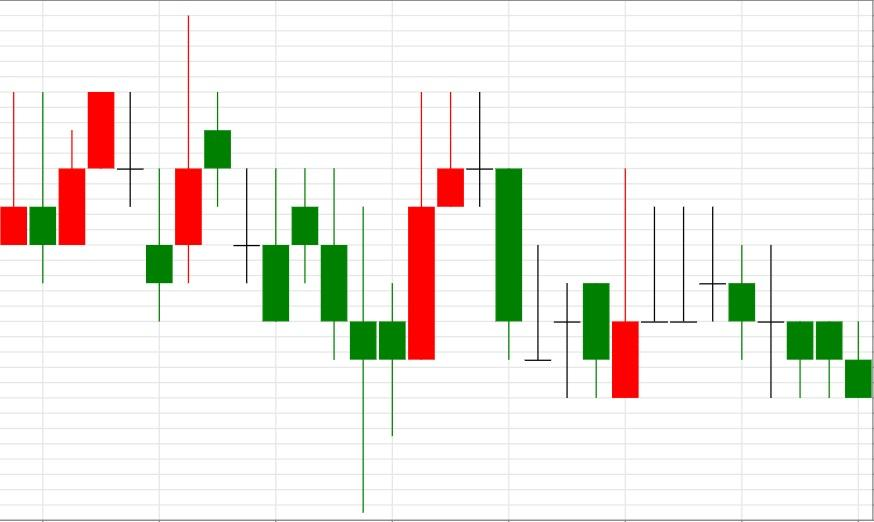evening_star_fall: (349, 90, 522, 513)
inverse_hammer_rise: (436, 89, 640, 399)
